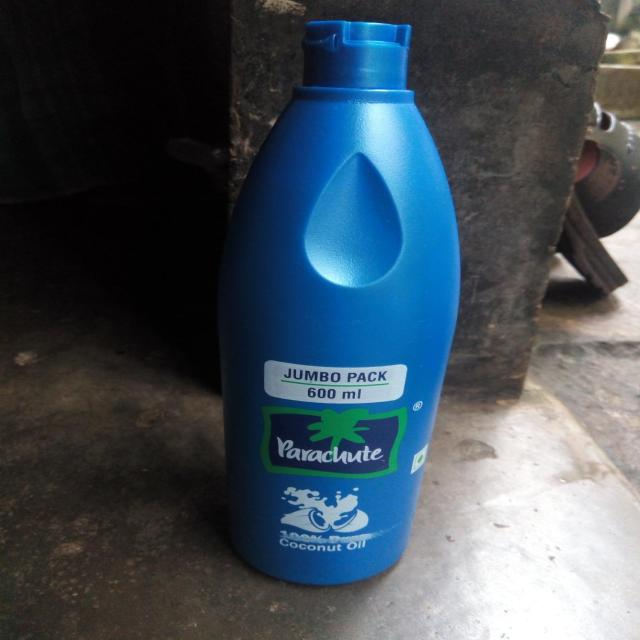parachute_oil: (223, 13, 457, 598)
